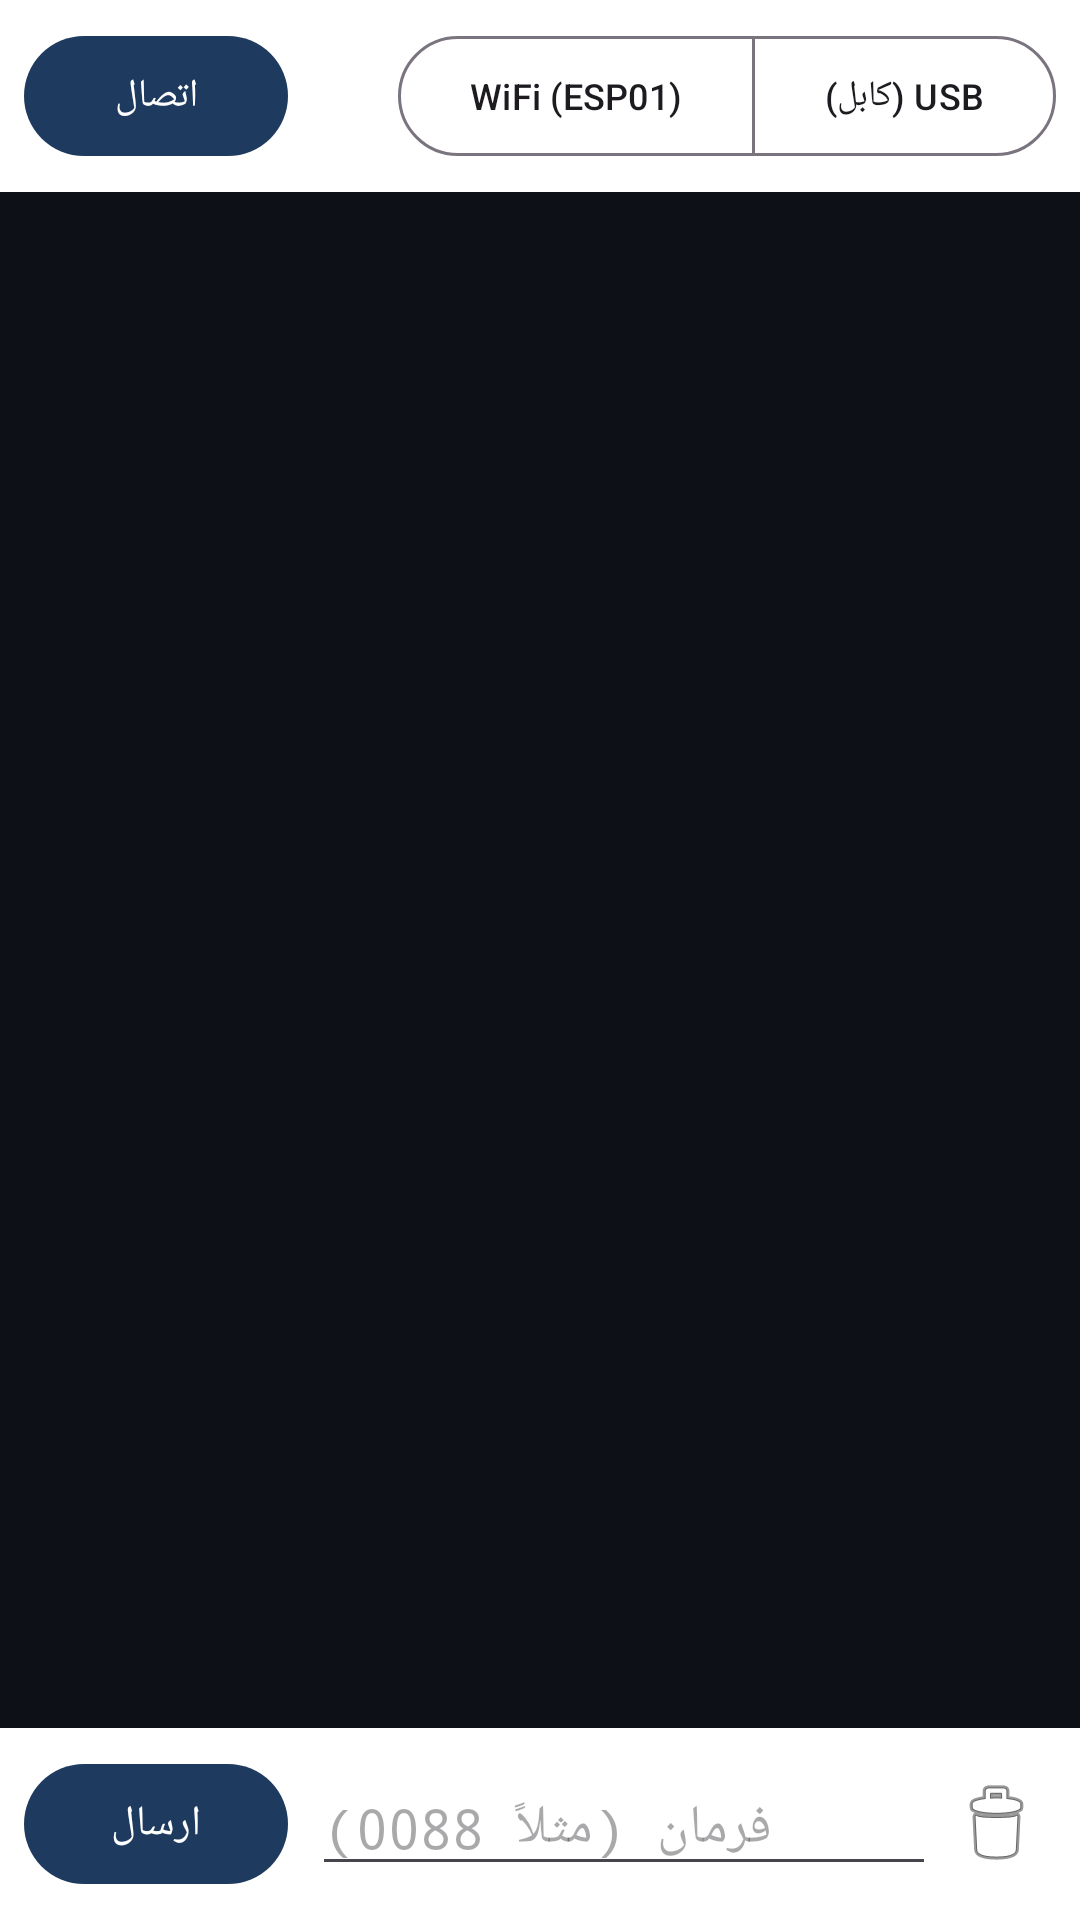

Screen size 1080x1920. Icon name, then its center in pixels as (x,y):
پاک کردن: (996,1822)
